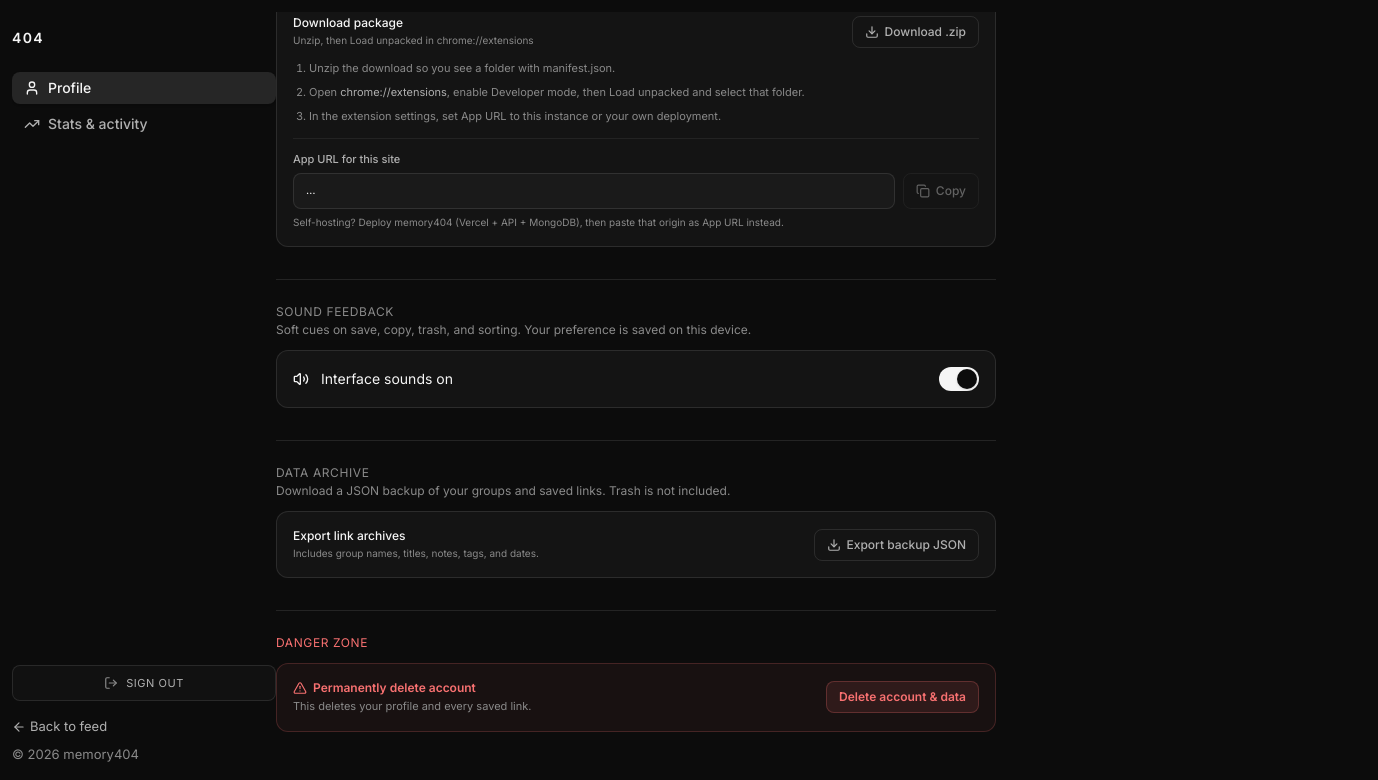
Test: library export › names the backup file after it downloads
The width and height of the screenshot is (1378, 780).
(page scrolled)
Click the button "Export backup JSON".
click(896, 545)  # box [814, 529, 979, 561]
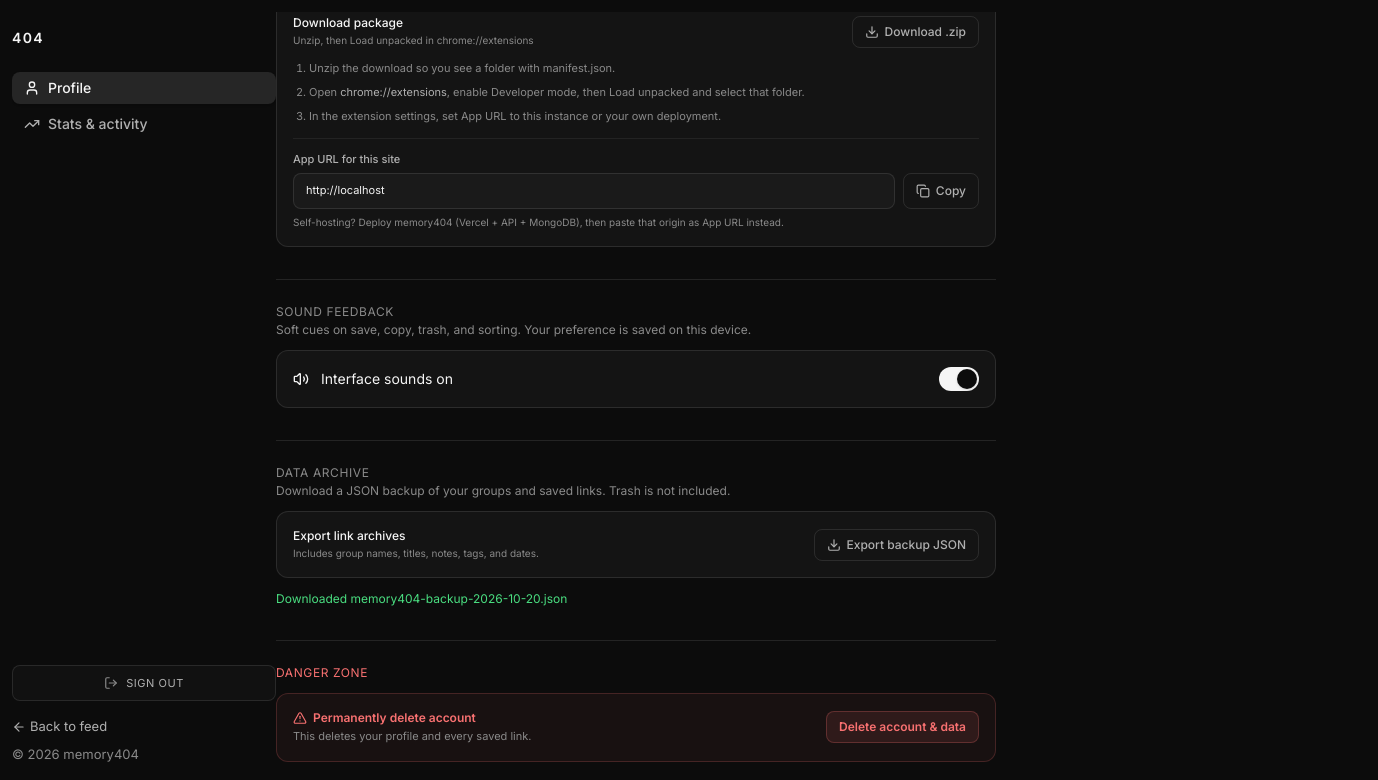
expect the text "Downloaded memory404-backup-2026-10-20.json" is shown: met, box [276, 591, 567, 606]
